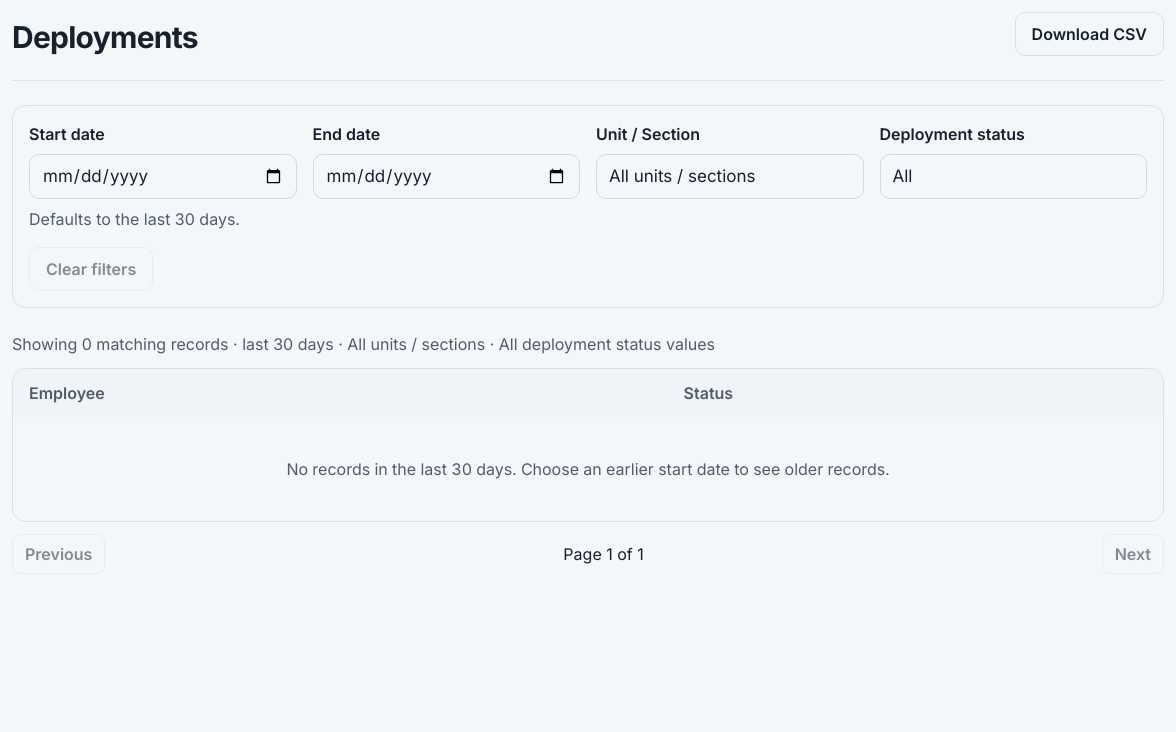
Test case: ReportDetail filters › shows an inline error and keeps the last valid range when the end date precedes the start
Type "2026-05-10" into the date field labelled "Start date" at (163, 177), box [29,154,296,199]
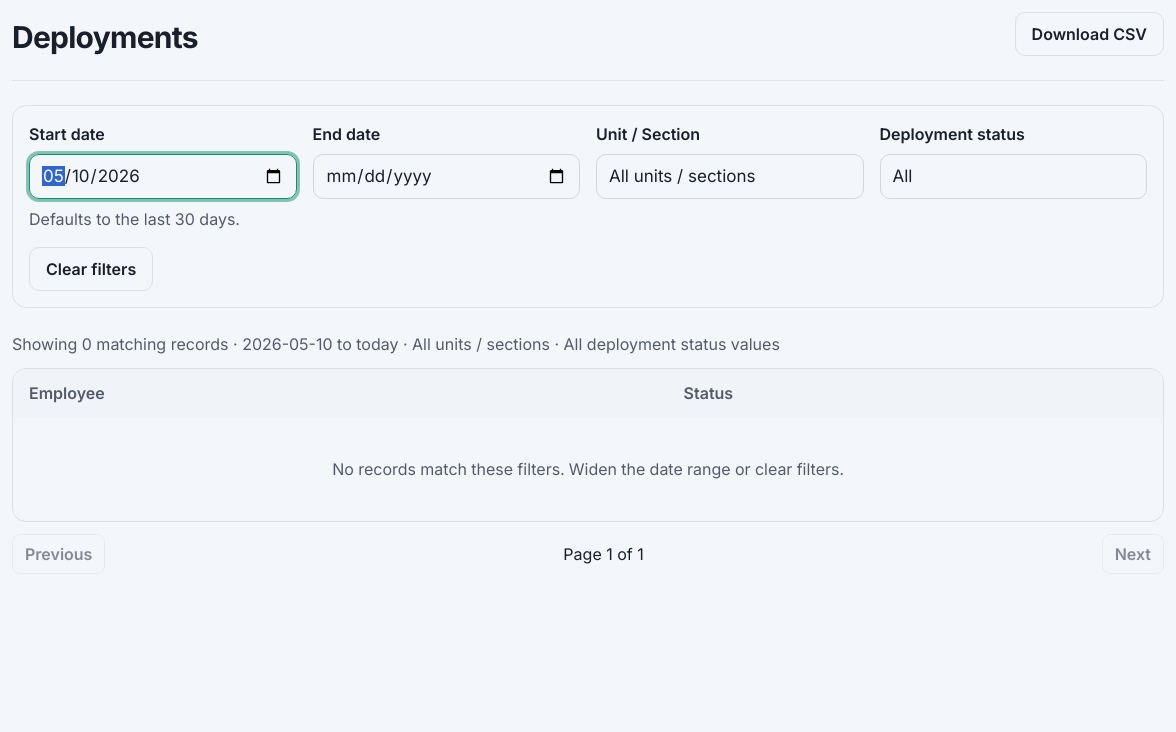
Type "2026-05-01" into the date field labelled "End date" at (446, 177), box [312,154,580,199]
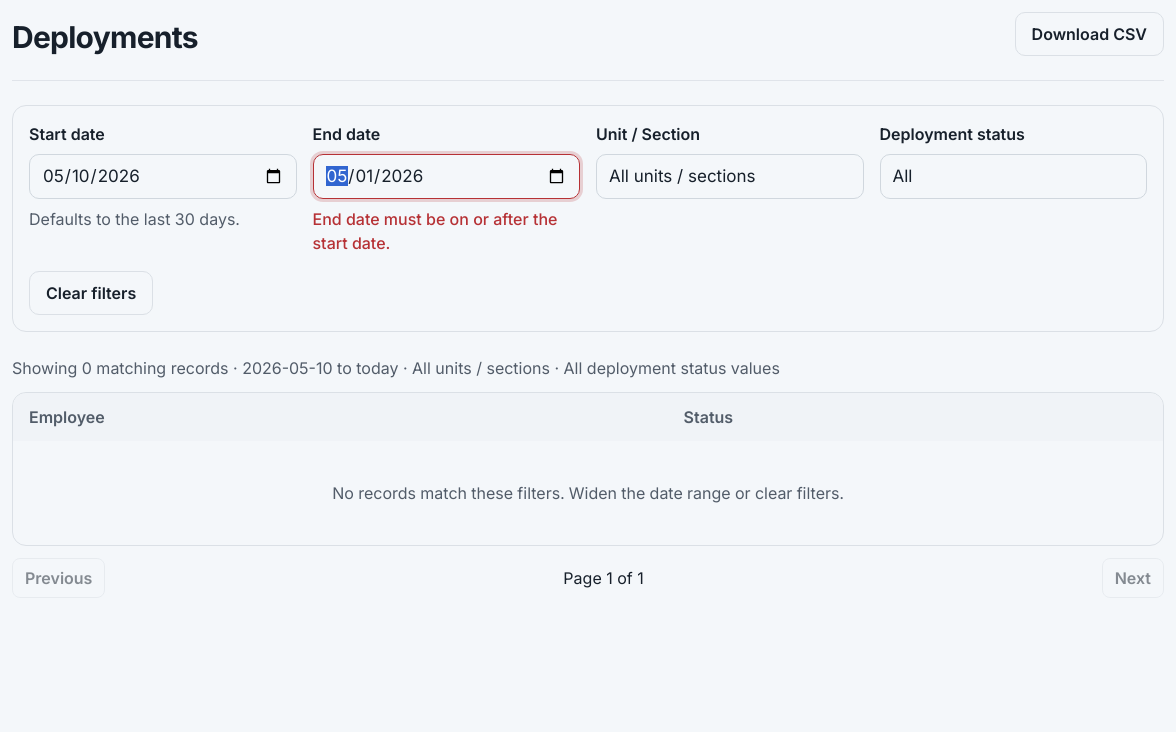
Expected: the text "No records match these filters" is shown, [332,483,844,503]
Expected: the text "End date must be on or after the start date." is shown, [312,207,580,255]
